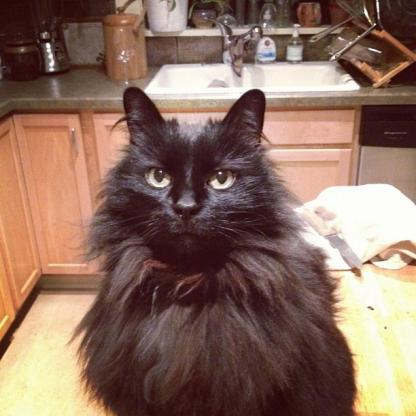Target: (82, 79, 355, 416)
